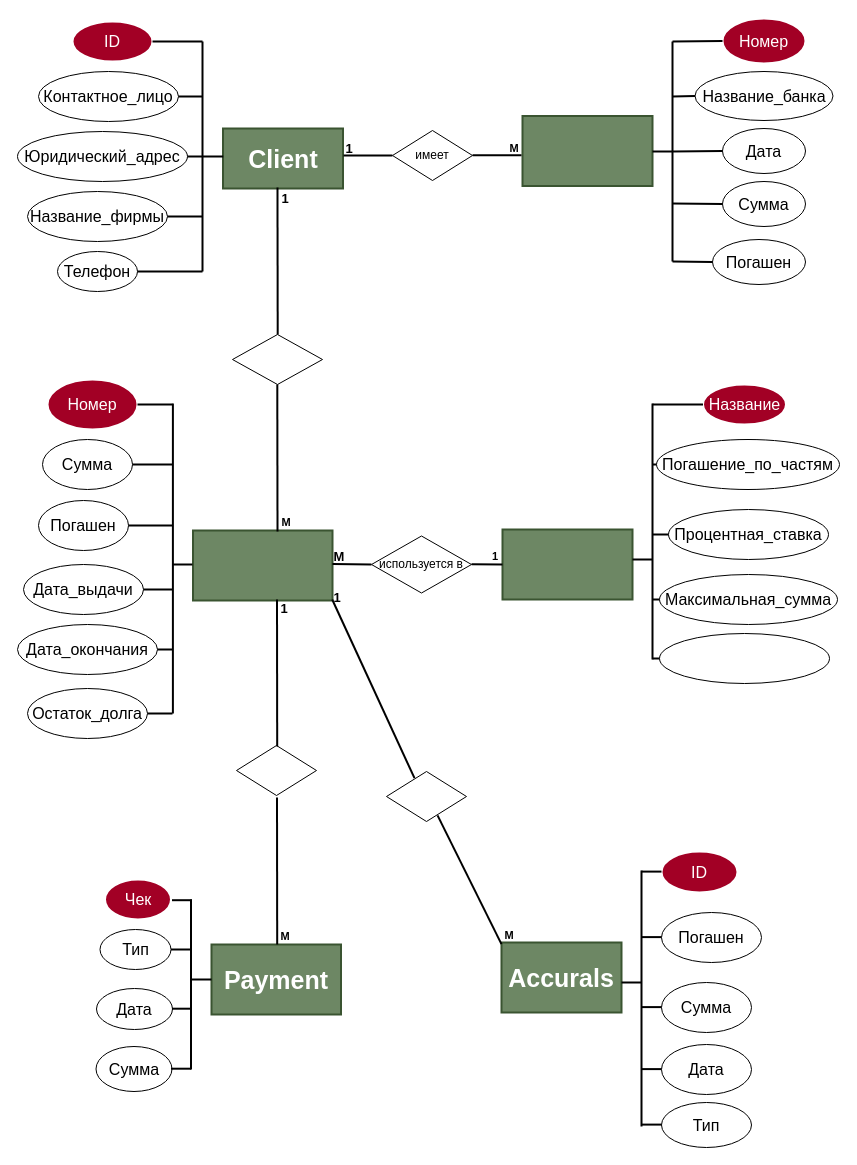
Image size: 857x1165. Some labels were removed from this diagram. The box of each missing label's shape, as (x1, y1, x2, y2) in pixels:
Credit History: (521, 114, 653, 186)
Loan Agreement: (192, 529, 333, 601)
Loan Product: (501, 528, 633, 600)
включает: (236, 744, 316, 796)
заключает: (232, 334, 322, 384)
Максимальный_срок: (658, 632, 830, 684)
содержит: (386, 770, 466, 822)
